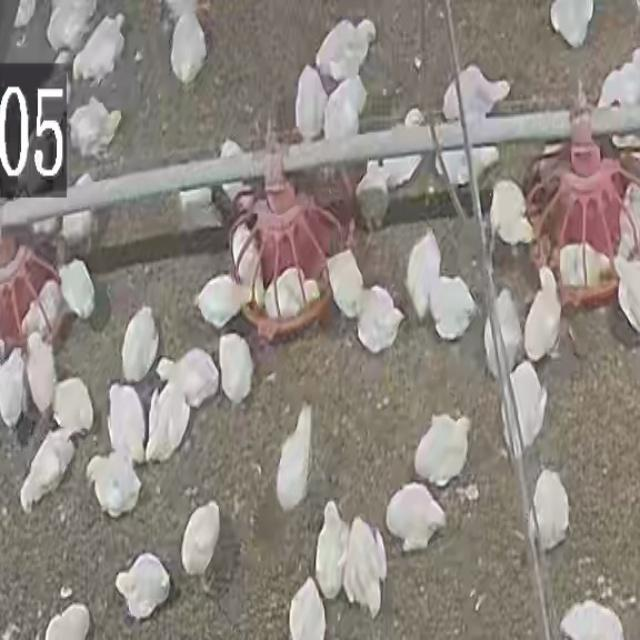chicken: (18, 428, 78, 511), (340, 516, 387, 618), (500, 360, 549, 452), (274, 403, 312, 513), (84, 448, 142, 518), (318, 14, 380, 79), (416, 413, 472, 484), (72, 14, 127, 86), (387, 481, 444, 549), (144, 379, 190, 462), (114, 552, 170, 620), (68, 95, 122, 162), (57, 180, 104, 256), (106, 382, 148, 467), (443, 73, 511, 122), (356, 286, 404, 354), (195, 272, 251, 330), (314, 501, 347, 598), (525, 267, 559, 360), (120, 305, 160, 383), (180, 502, 220, 578), (169, 7, 208, 84), (24, 330, 57, 420), (263, 267, 318, 321), (597, 46, 640, 114), (45, 1, 98, 56), (528, 474, 567, 546), (325, 248, 364, 320), (58, 257, 100, 323), (52, 376, 95, 440), (405, 235, 438, 316), (388, 111, 424, 185), (218, 333, 255, 405), (559, 600, 627, 639), (325, 79, 367, 142), (174, 347, 218, 407), (486, 293, 518, 375), (430, 276, 476, 332), (0, 346, 29, 431), (213, 139, 250, 205), (287, 578, 326, 638), (493, 181, 530, 244), (22, 284, 62, 342), (549, 0, 594, 51), (555, 241, 605, 286), (176, 187, 222, 235), (432, 150, 495, 184), (353, 163, 388, 223), (230, 220, 261, 285), (616, 246, 640, 327), (617, 181, 640, 260), (42, 603, 91, 640), (296, 66, 319, 139), (13, 0, 38, 29)
